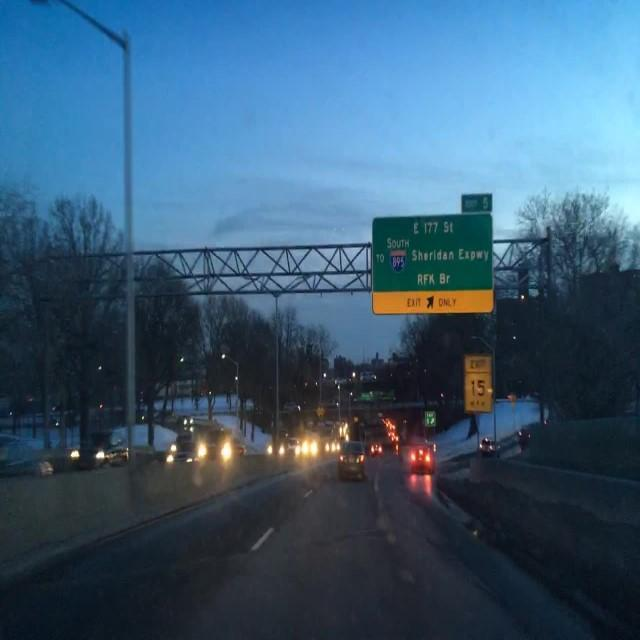normal: (397, 422, 455, 490), (338, 443, 367, 482)
